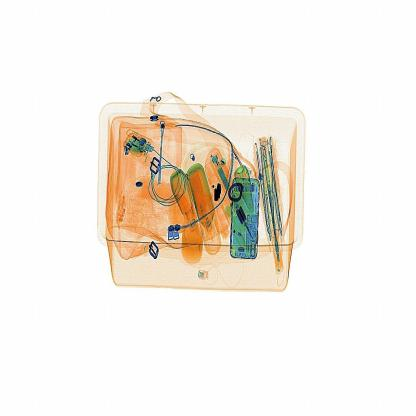knife: (208, 176, 232, 210)
